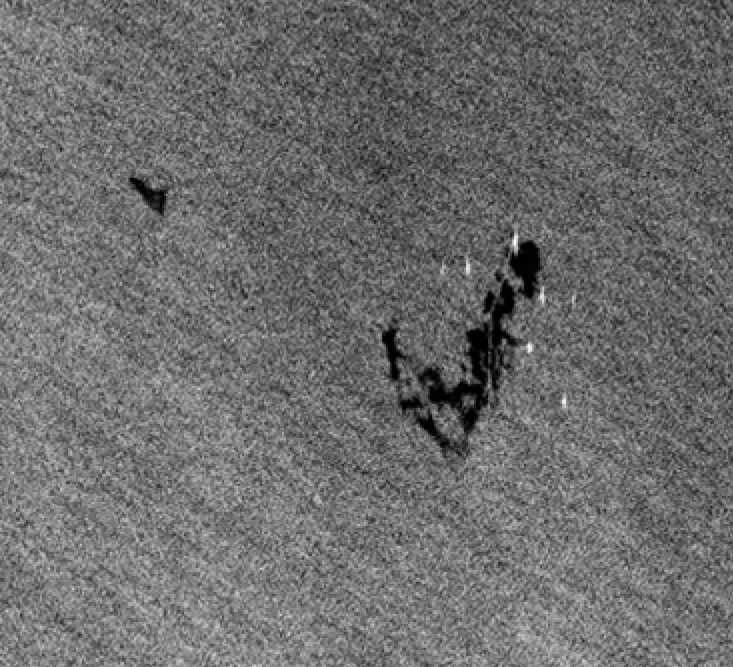anomaly: (371, 224, 554, 459)
